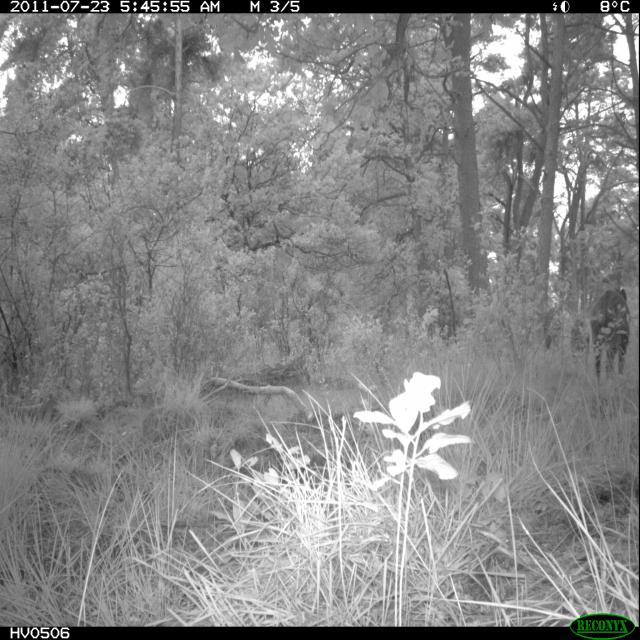boar: (568, 266, 640, 380)
